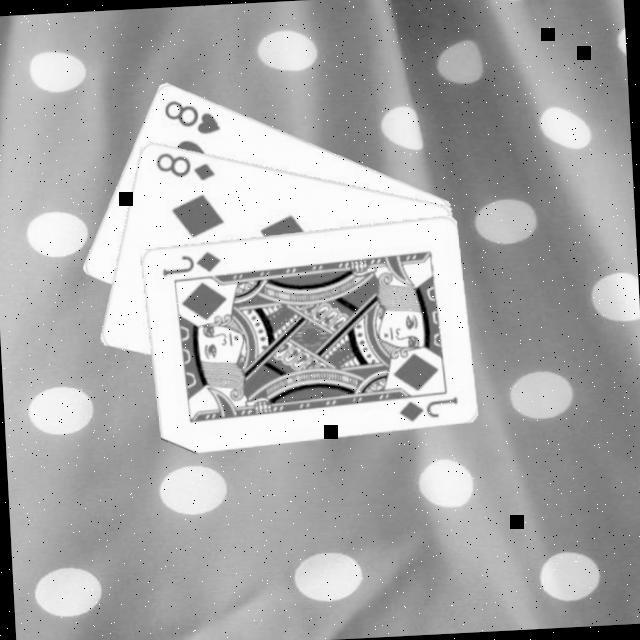8D: (151, 149, 218, 188)
8H: (159, 96, 223, 141)
JD: (157, 249, 223, 282), (394, 395, 460, 428)
